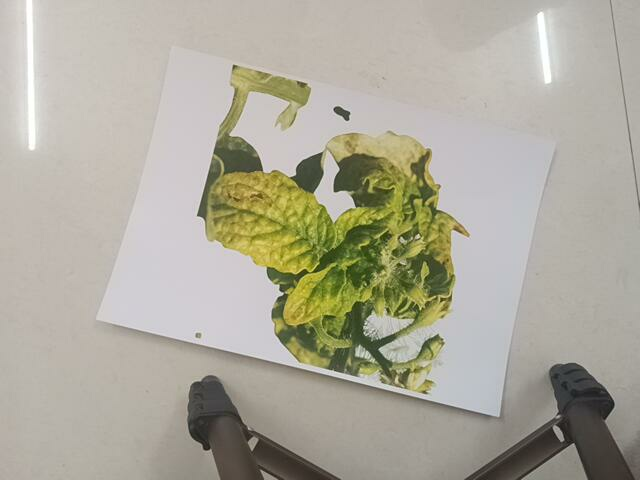Tomamto_Leaf_curl_virus: (207, 50, 486, 393)
